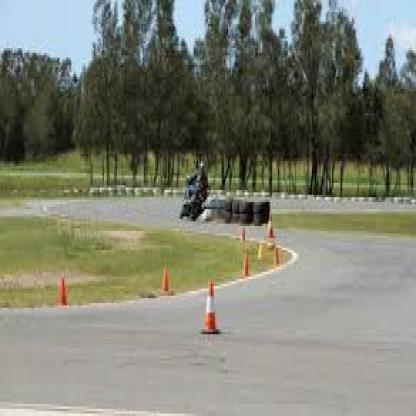car: (173, 160, 214, 225)
